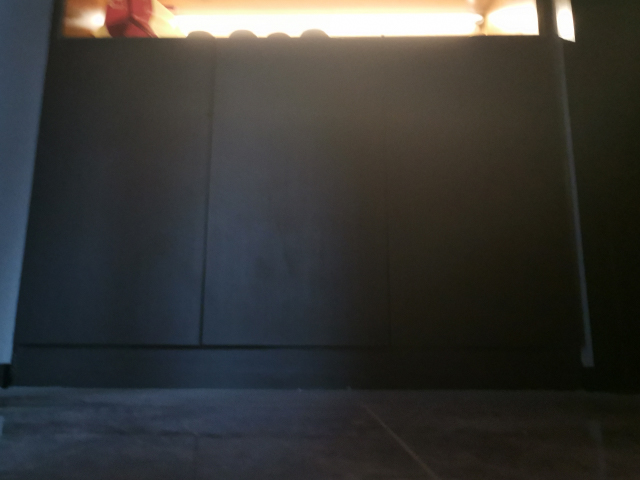cabinet: (27, 30, 569, 378)
